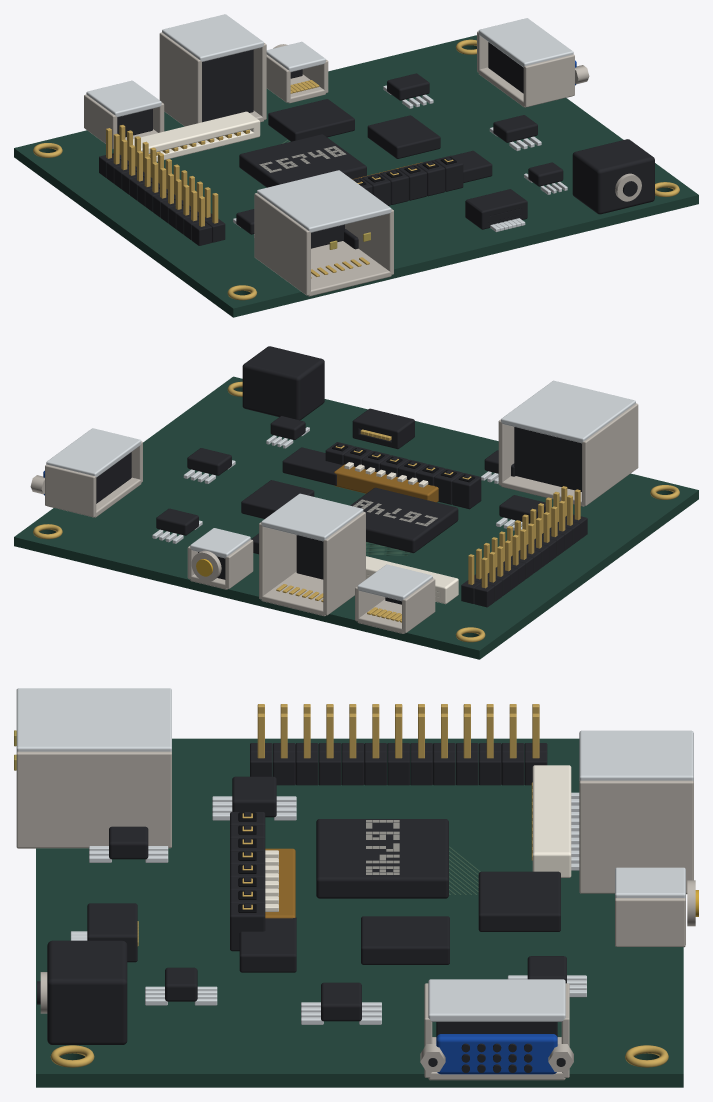
The model's file is boards-24.glb.
3 renders of one model, top to bottom at view 1: azimuth 30°, elevation 25°; view 2: azimuth 150°, elevation 25°; view 3: azimuth 270°, elevation 25°, orthographic. The views are drawn at different scales.
Parts seen in each view (by area): view 1: pcb, usb, ethernet, expansion, video, memory, power, dsp, composite, sata; view 2: pcb, usb, ethernet, expansion, video, power, dsp, composite, memory, boot, sata; view 3: pcb, expansion, ethernet, usb, video, memory, dsp, power, composite, sata, boot.
Part boxes in pixels (box(x1,y1,x2,y2)): pcb: box(14, 35, 698, 317); usb: box(84, 14, 266, 149); ethernet: box(254, 170, 393, 296); expansion: box(99, 111, 463, 245); video: box(477, 18, 589, 107); memory: box(268, 99, 492, 182); power: box(572, 139, 654, 214); dsp: box(239, 134, 366, 187); composite: box(266, 41, 328, 103); sata: box(465, 189, 527, 232); pcb: box(14, 376, 698, 659); usb: box(259, 493, 435, 633); ethernet: box(498, 380, 638, 506); expansion: box(325, 442, 587, 607); video: box(30, 428, 142, 517); power: box(242, 346, 324, 420); dsp: box(350, 487, 458, 553); composite: box(187, 528, 253, 589); memory: box(241, 447, 342, 554); boot: box(334, 462, 438, 502); sata: box(352, 408, 414, 449); pcb: box(36, 738, 683, 1087); expansion: box(230, 704, 579, 951); ethernet: box(14, 688, 171, 848); usb: box(579, 730, 693, 894); video: box(420, 979, 573, 1080); memory: box(239, 871, 560, 972); dsp: box(316, 819, 448, 898); power: box(37, 940, 127, 1044); composite: box(615, 867, 698, 947); sata: box(70, 903, 138, 962); boot: box(265, 848, 295, 918).
Size of the model in its own units: 3.63 by 0.631 by 2.99.
